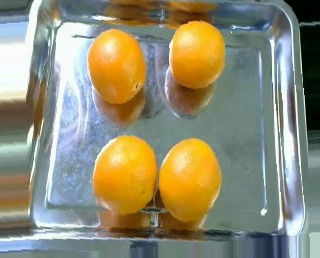Orange: (157, 136, 221, 221), (91, 135, 156, 214), (87, 27, 145, 104), (168, 20, 227, 89)
